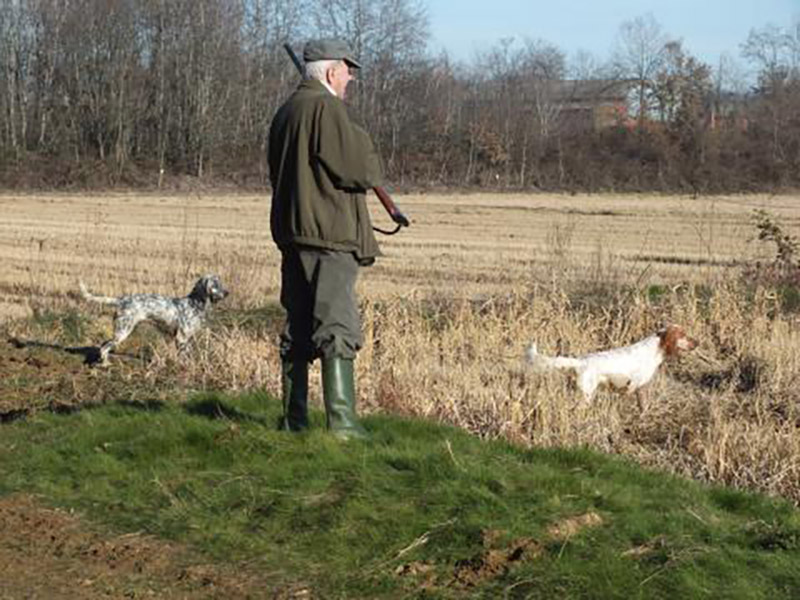cacciatore: (253, 32, 414, 449)
cane da caccia: (69, 267, 231, 376), (529, 314, 697, 411)
